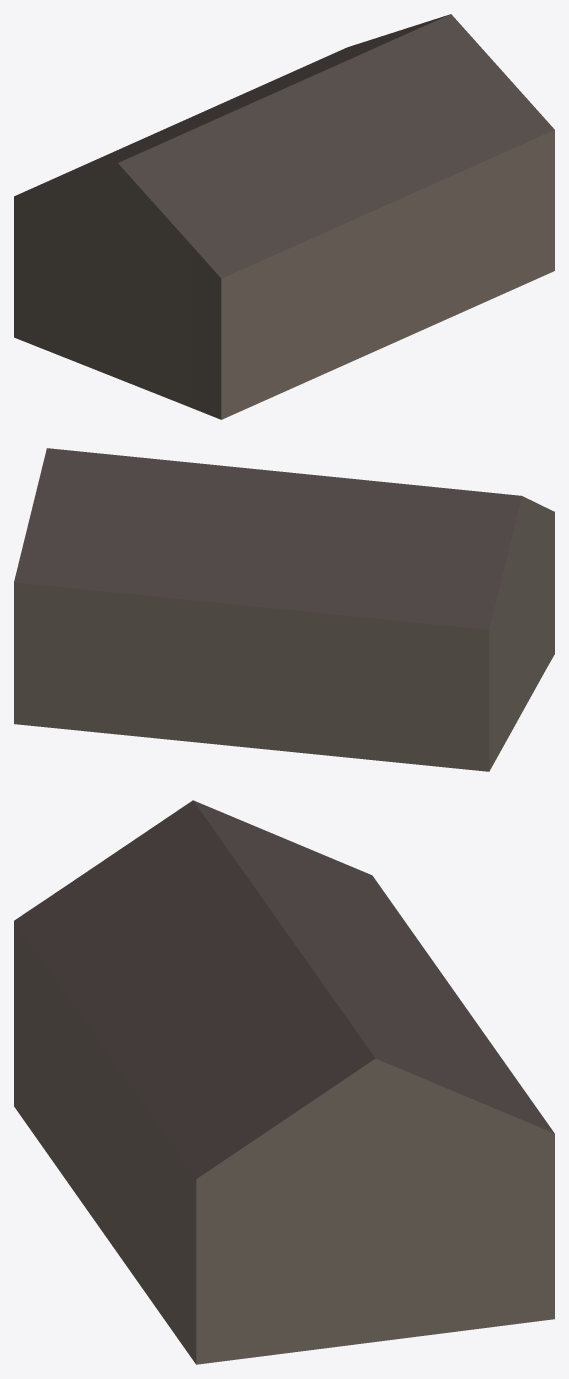
3 views of the same model, one above another, from view 1: azimuth 30°, elevation 25°; view 2: azimuth 150°, elevation 25°; view 3: azimuth 270°, elevation 25° (orthographic). The views are drawn at different scales.
Parts seen in each view (by area): view 1: HP-w1376988747; view 2: HP-w1376988747; view 3: HP-w1376988747.
Part boxes in pixels (x1,y1,x2,y2): HP-w1376988747: (14,14,554,419); HP-w1376988747: (14,448,554,771); HP-w1376988747: (14,800,554,1364).
Size of the model in its own units: 21.1 by 9.17 by 15.87.
